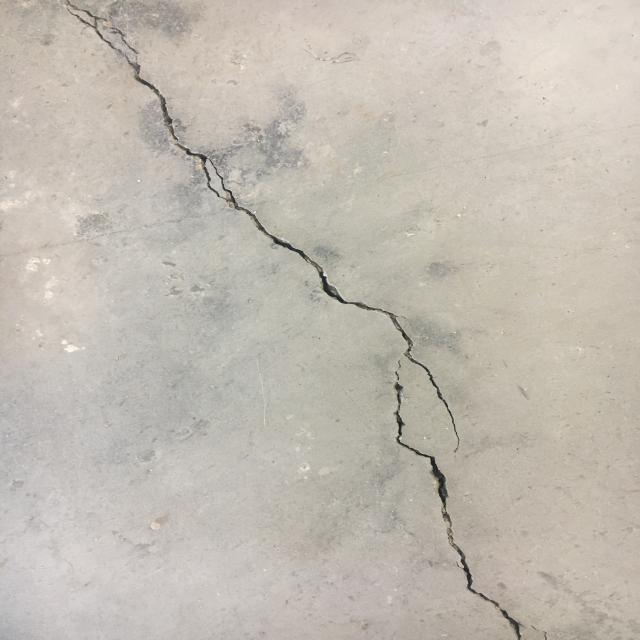Rachadura: (63, 0, 525, 640)
